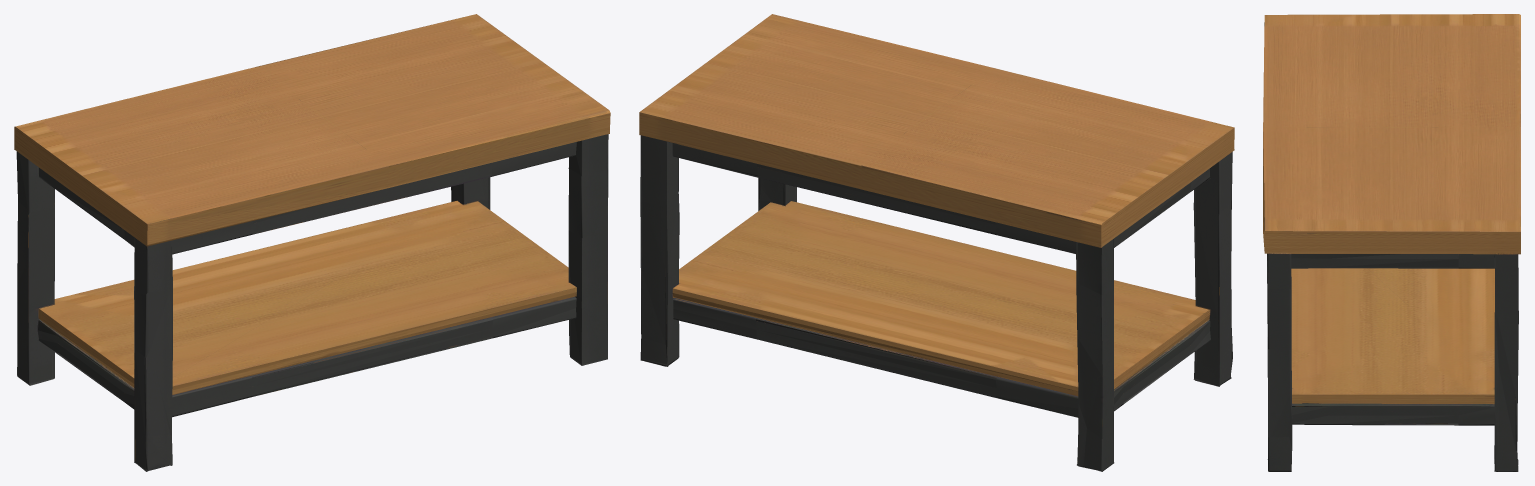
File: grow-bench.glb
The picture shows the model from 3 angles, left to right: view 1: azimuth 30°, elevation 25°; view 2: azimuth 150°, elevation 25°; view 3: azimuth 270°, elevation 25°; orthographic projection. The views are drawn at different scales.
Bounding box in the file's own units: 1 × 0.5176 × 0.502.
Materials: 1 (1 with a texture image).
